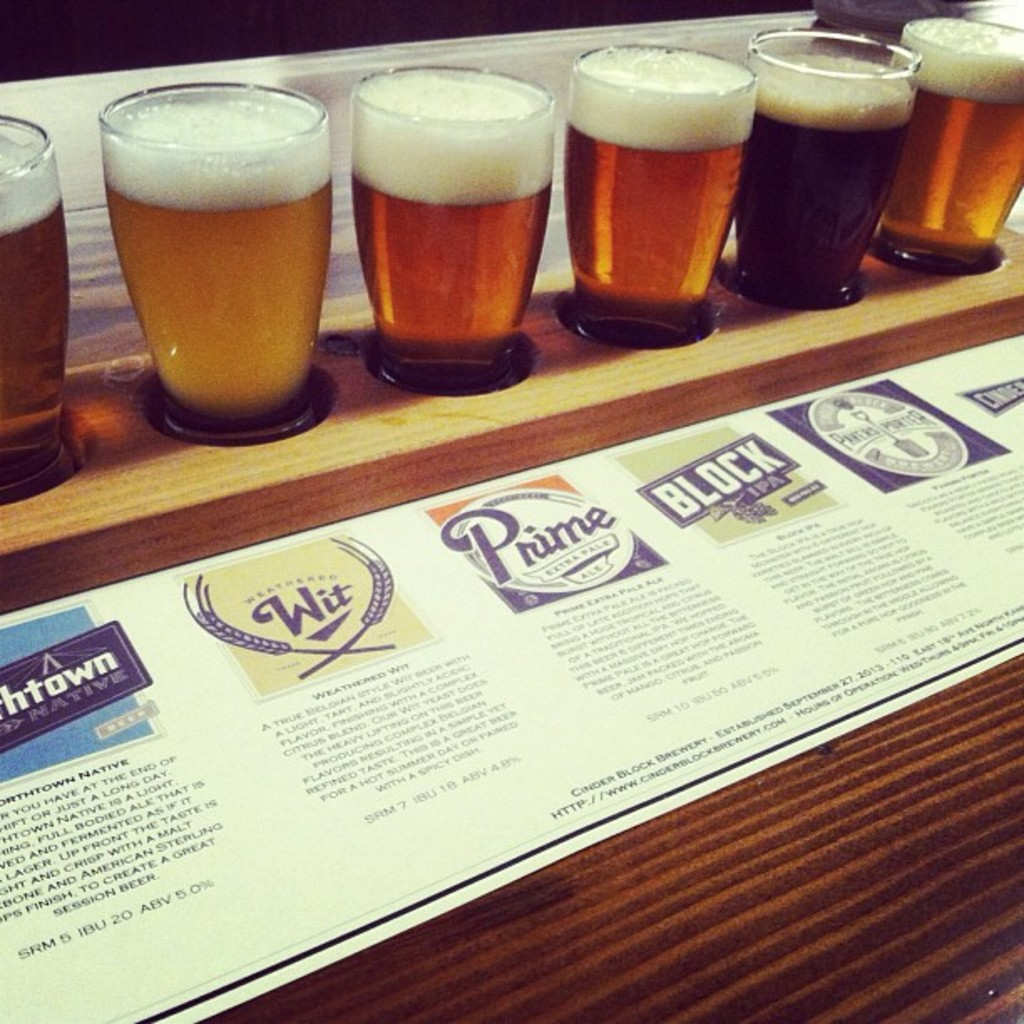Beer: (108, 87, 331, 409), (346, 60, 552, 381), (563, 48, 756, 324), (901, 16, 1022, 261)
